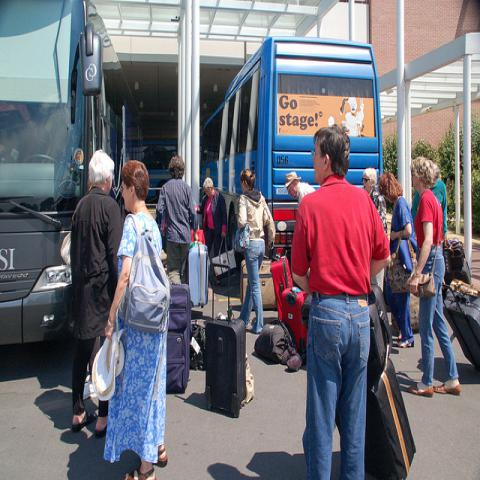bus: (1, 1, 145, 346), (200, 36, 386, 263), (140, 140, 181, 199)
